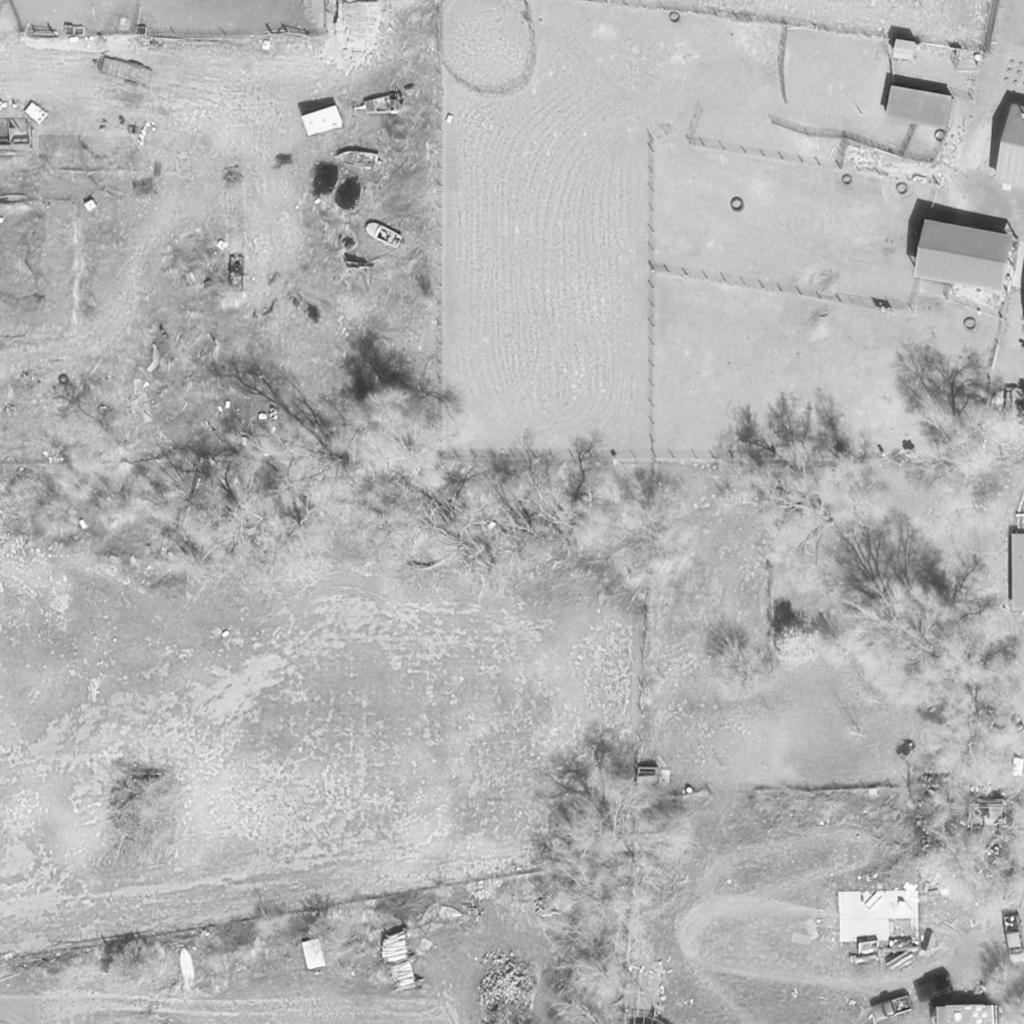vehicle: (934, 1004, 996, 1024), (300, 109, 346, 135), (1001, 913, 1024, 965), (332, 148, 380, 172), (366, 221, 402, 251), (917, 976, 955, 1004), (870, 995, 914, 1019)
